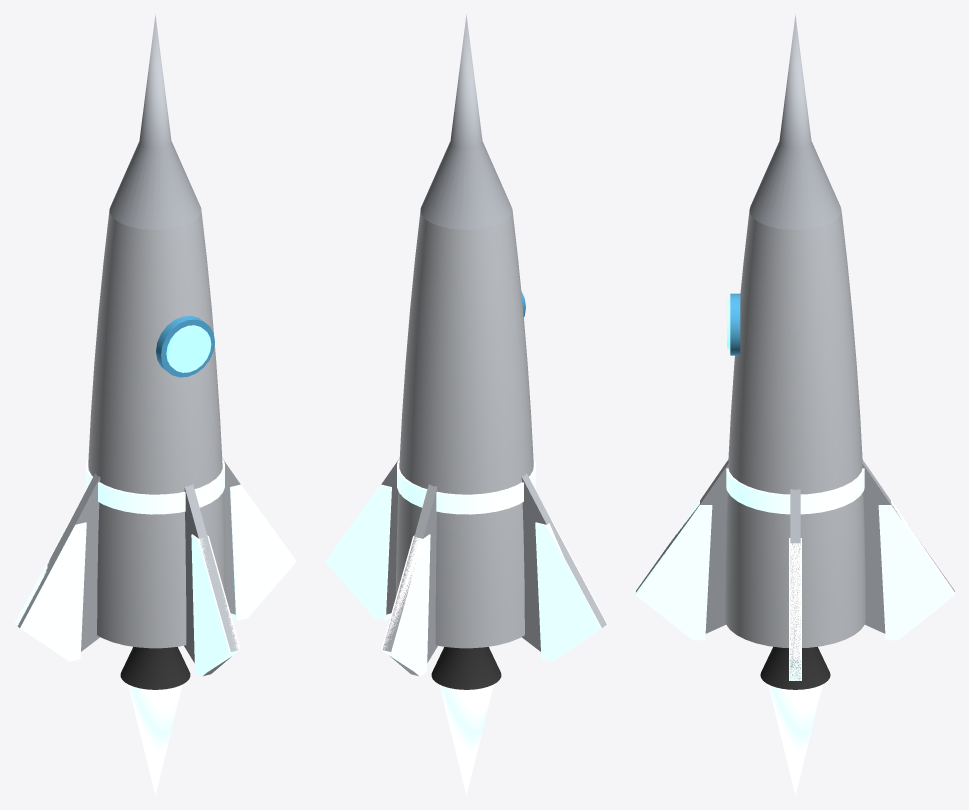
The model's file is Rocket_24_FrostLance.fbx.
The picture shows the model from 3 angles, left to right: view 1: azimuth 30°, elevation 25°; view 2: azimuth 150°, elevation 25°; view 3: azimuth 270°, elevation 25°; orthographic projection.
Visible parts, largest first — view 1: R24_Body, R24_Nose, R24_FinGlow_2, R24_FinGlow_4, R24_FinGlow_3, R24_Fin_2, R24_Fin_3, R24_Flame_1, R24_Band_1, R24_Nozzle_1, R24_Window_1, R24_Fin_4 (+1 smaller); view 2: R24_Body, R24_Nose, R24_FinGlow_2, R24_FinGlow_4, R24_FinGlow_1, R24_Fin_2, R24_Flame_1, R24_Fin_1, R24_Band_1, R24_Nozzle_1, R24_Fin_4; view 3: R24_Body, R24_Nose, R24_FinGlow_1, R24_FinGlow_3, R24_Fin_3, R24_Fin_1, R24_Flame_1, R24_Band_1, R24_Nozzle_1, R24_FinGlow_4, R24_Fin_4, R24_WindowFrame_1.
Part boxes in pixels (bbox=[...]): R24_Body: bbox=[88, 210, 225, 648]; R24_Nose: bbox=[109, 14, 201, 229]; R24_FinGlow_2: bbox=[14, 520, 86, 661]; R24_FinGlow_4: bbox=[230, 484, 296, 620]; R24_FinGlow_3: bbox=[191, 534, 240, 676]; R24_Fin_2: bbox=[17, 473, 100, 651]; R24_Fin_3: bbox=[184, 484, 238, 675]; R24_Flame_1: bbox=[128, 684, 182, 795]; R24_Band_1: bbox=[86, 458, 224, 514]; R24_Nozzle_1: bbox=[120, 647, 190, 689]; R24_Window_1: bbox=[166, 325, 211, 372]; R24_Fin_4: bbox=[223, 459, 240, 614]; R24_Body: bbox=[396, 210, 533, 648]; R24_Nose: bbox=[420, 14, 512, 229]; R24_FinGlow_2: bbox=[535, 520, 607, 661]; R24_FinGlow_4: bbox=[325, 484, 391, 620]; R24_FinGlow_1: bbox=[381, 534, 430, 676]; R24_Fin_2: bbox=[521, 473, 606, 651]; R24_Flame_1: bbox=[439, 684, 493, 795]; R24_Fin_1: bbox=[382, 484, 437, 675]; R24_Band_1: bbox=[397, 458, 535, 514]; R24_Nozzle_1: bbox=[431, 647, 501, 689]; R24_Fin_4: bbox=[381, 459, 398, 614]; R24_Body: bbox=[725, 211, 865, 647]; R24_Nose: bbox=[749, 14, 841, 229]; R24_FinGlow_1: bbox=[878, 500, 954, 640]; R24_FinGlow_3: bbox=[636, 500, 712, 640]; R24_Fin_3: bbox=[636, 460, 728, 633]; R24_Fin_1: bbox=[862, 460, 954, 633]; R24_Flame_1: bbox=[768, 684, 822, 795]; R24_Band_1: bbox=[726, 459, 864, 514]; R24_Nozzle_1: bbox=[760, 646, 830, 689]; R24_FinGlow_4: bbox=[789, 538, 801, 680]; R24_Fin_4: bbox=[790, 489, 800, 680]; R24_WindowFrame_1: bbox=[730, 293, 740, 355].
Bounding box in the file's own units: 3.82 × 10.35 × 3.82.
